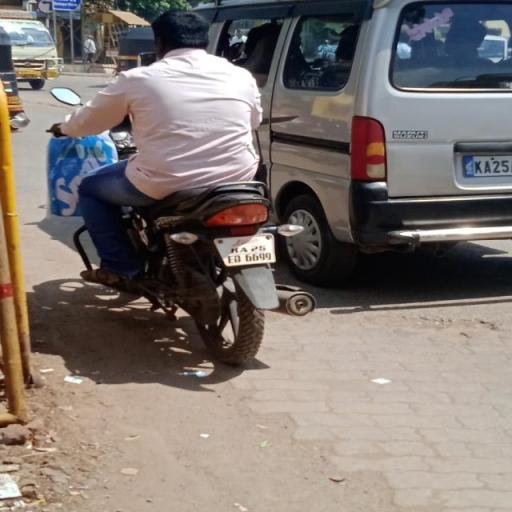bike: (40, 0, 318, 373)
numberplate: (212, 230, 284, 269)
withouthelmet: (154, 11, 206, 51)
